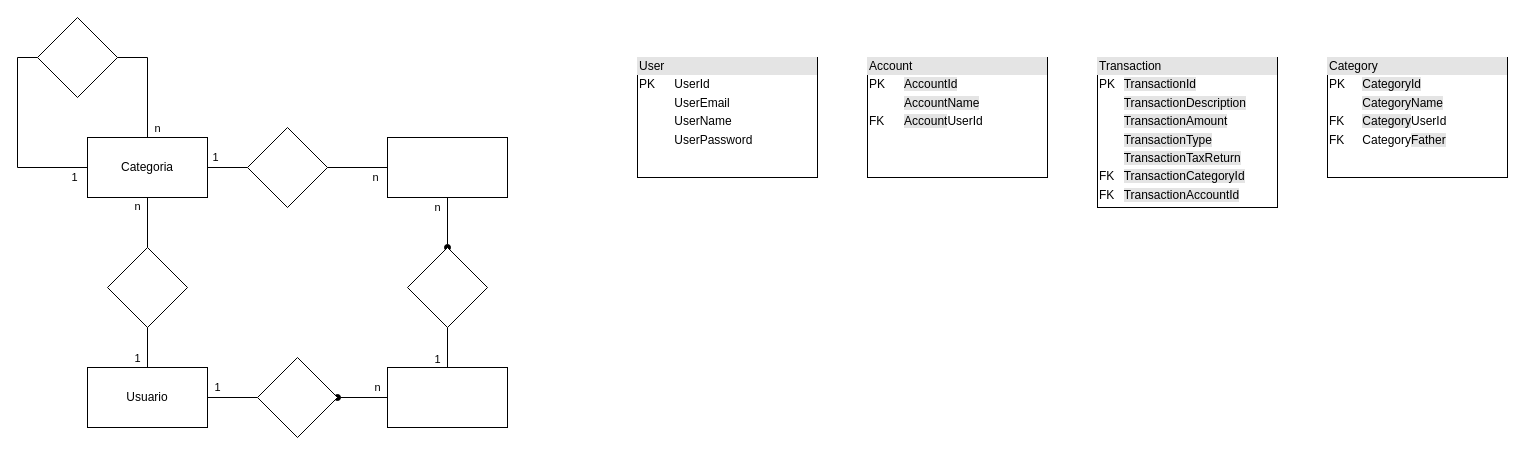
This 1525x455 diagram has some shape labels left out. The centre of each missing label's shape, as x and y in pixels:
Cuenta: (x=447, y=397)
Subcategoria: (x=77, y=57)
Transacción: (x=447, y=167)
